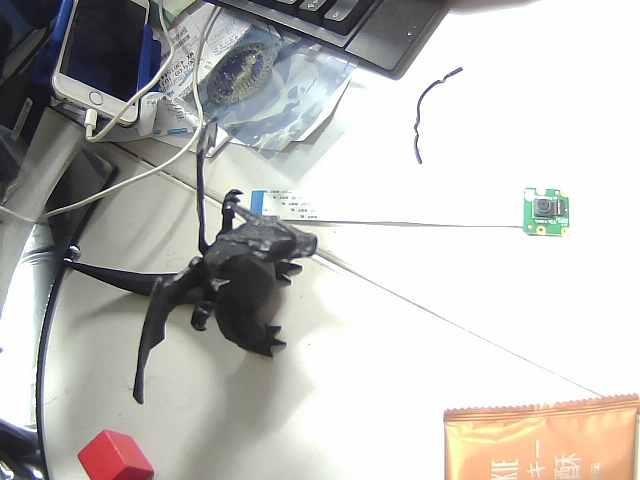charizard: (42, 109, 362, 417)
